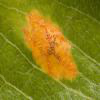Apple rust leaf: (13, 6, 88, 96)
